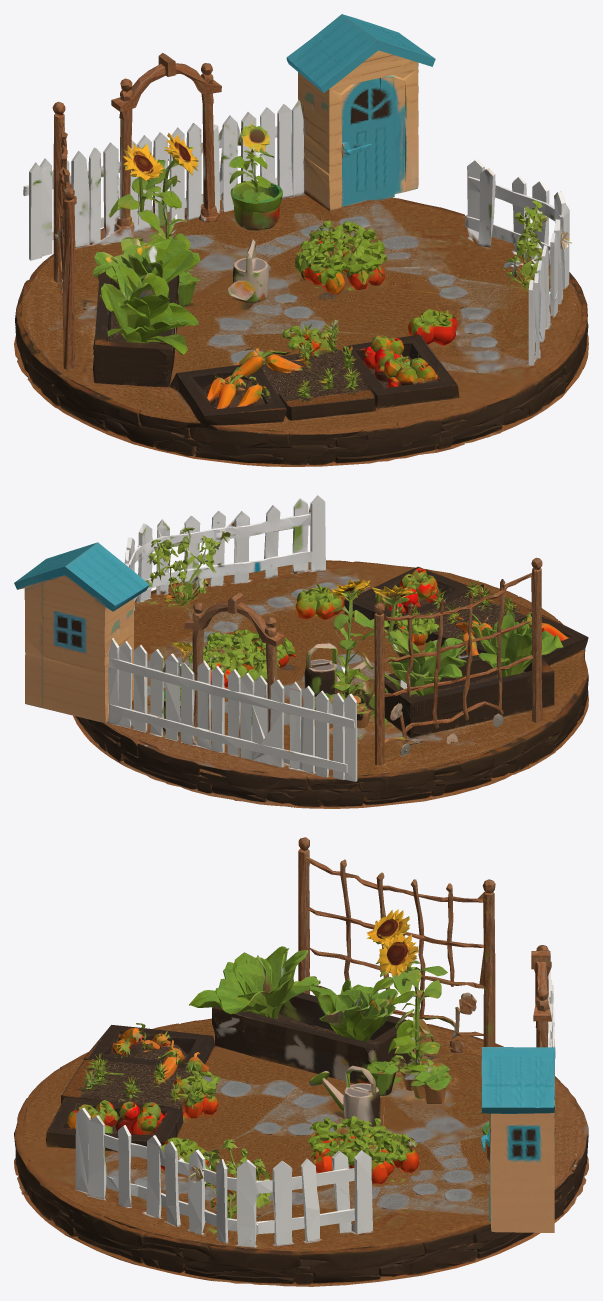
Rendered from a4_community_garden.glb.
3 views of the same model, one above another, from view 1: azimuth 30°, elevation 25°; view 2: azimuth 150°, elevation 25°; view 3: azimuth 270°, elevation 25° (orthographic). The views are drawn at different scales.
Size of the model in its own units: 1.9 by 0.7802 by 1.9.
Materials: 1 (1 with a texture image).
